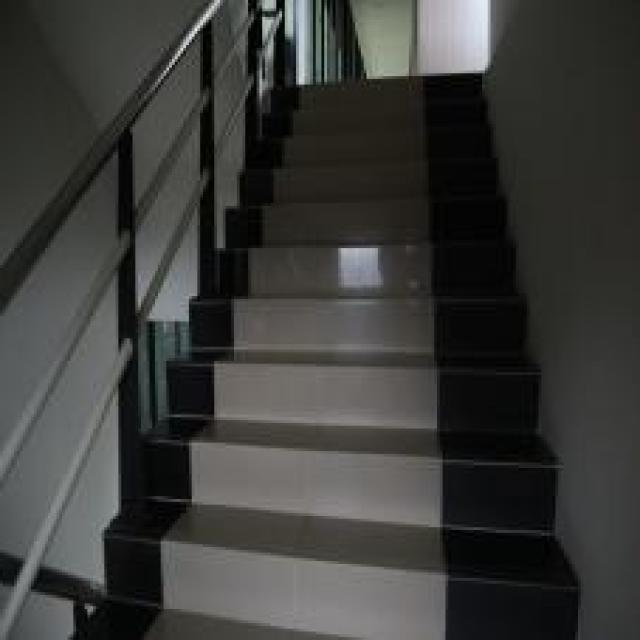upstair: (260, 80, 486, 638)
